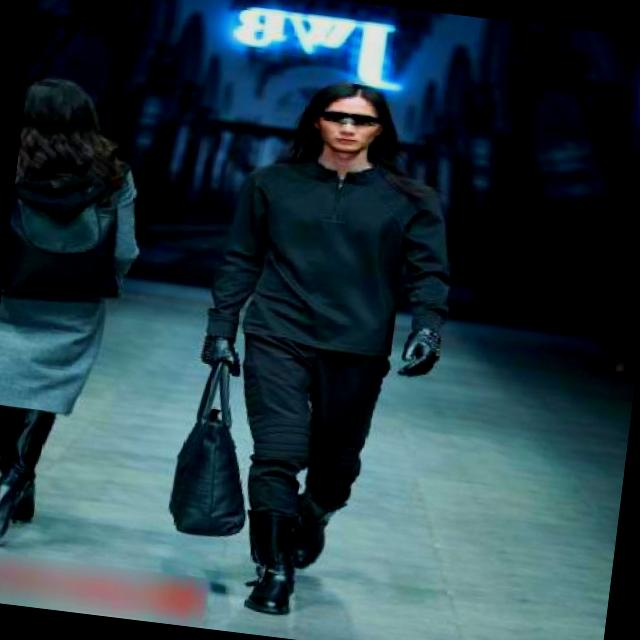Person: (92, 42, 503, 640)
